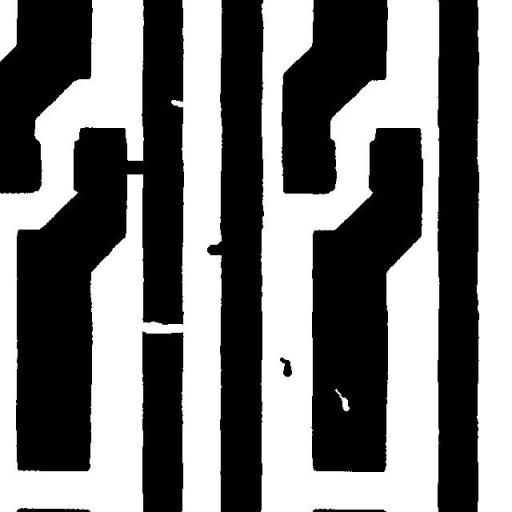copper: (272, 350, 299, 384)
mousebite: (164, 92, 194, 114)
open: (131, 314, 192, 340)
pin-hole: (327, 381, 357, 418)
short: (114, 152, 158, 182)
spur: (199, 234, 236, 262)
